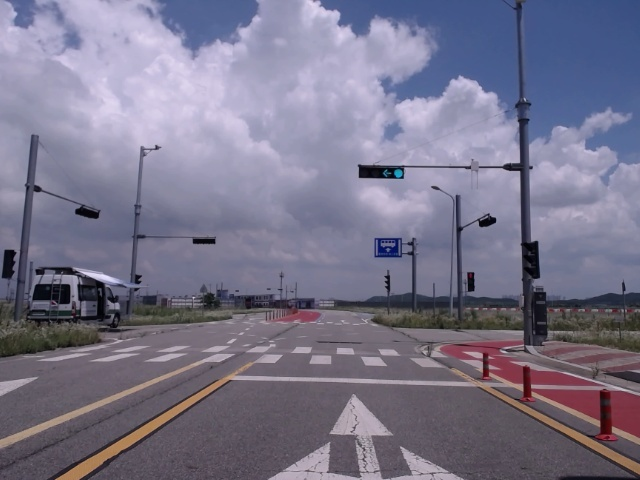all_green_4: (357, 164, 407, 179)
